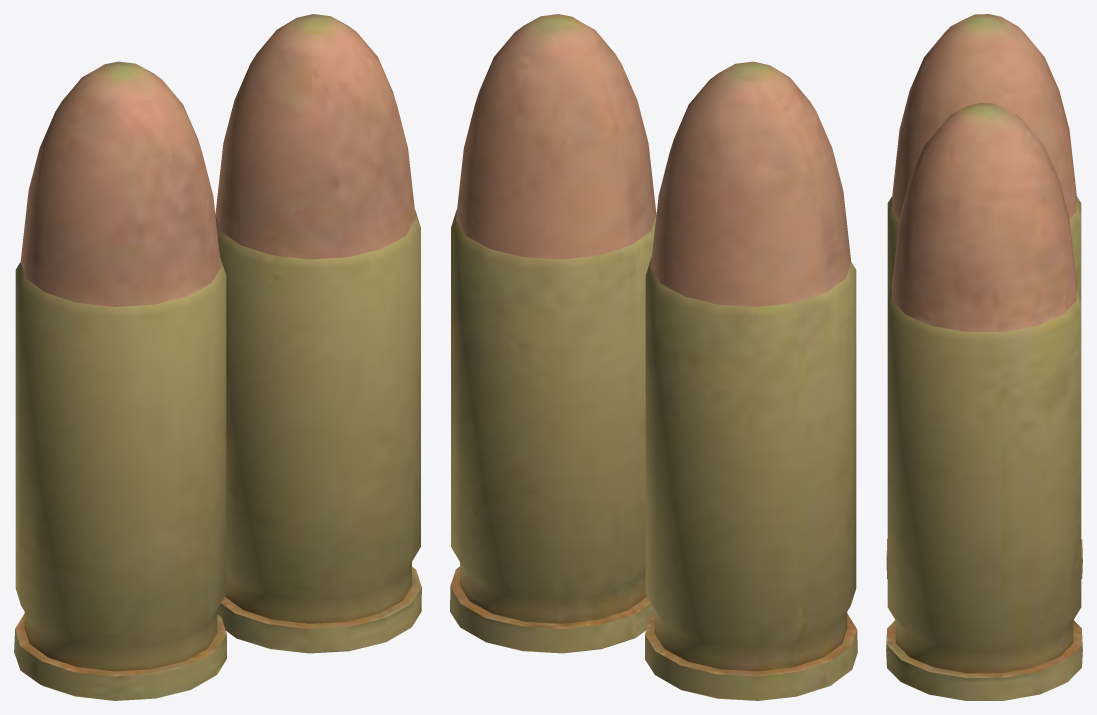
File: ammo.glb
3 views of the same model, side by side, from view 1: azimuth 30°, elevation 25°; view 2: azimuth 150°, elevation 25°; view 3: azimuth 270°, elevation 25° (orthographic). The views are drawn at different scales.
Parts seen in each view (by area): view 1: ammo; view 2: ammo; view 3: ammo.
Part boxes in pixels (box(x1,y1,x2,y2)): ammo: box(14, 14, 421, 700); ammo: box(450, 14, 857, 700); ammo: box(886, 14, 1082, 700).
Size of the model in its own units: 0.0201 by 0.03 by 0.00969.
Materials: 1 (1 with a texture image).
